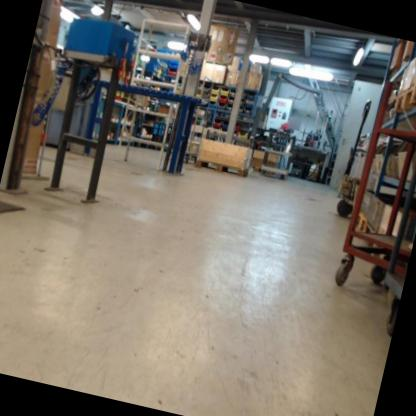pallet: (193, 153, 251, 180), (391, 76, 416, 121), (353, 210, 370, 235)
pallet_truck: (329, 96, 379, 220)
